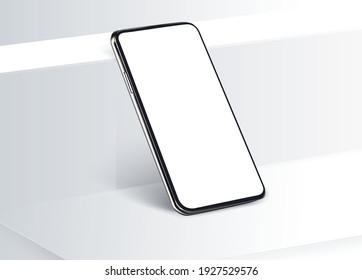mobile: (109, 22, 265, 216)
